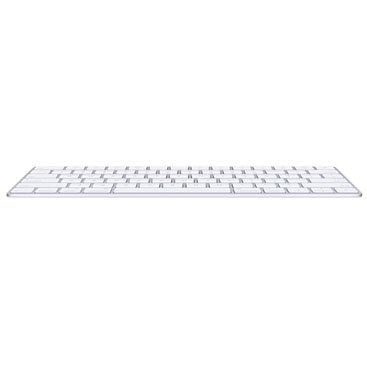keyboard: (4, 158, 367, 203)
